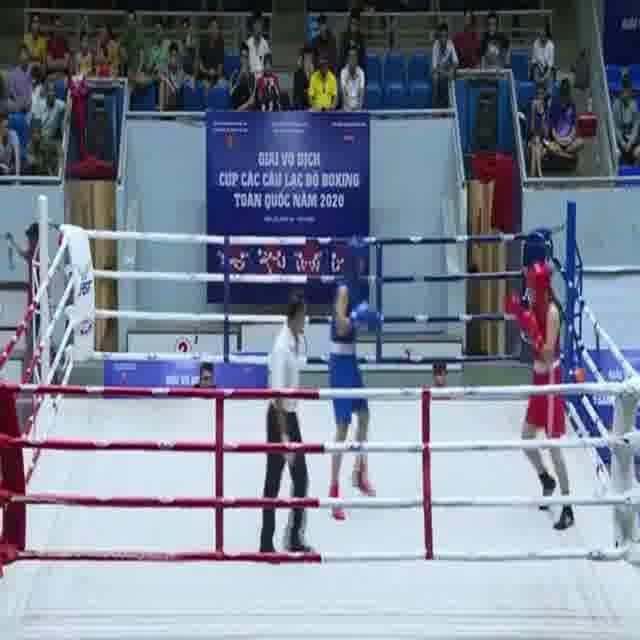blue-player: (323, 234, 386, 524)
red-player: (499, 257, 577, 531)
referee: (257, 288, 317, 561)
